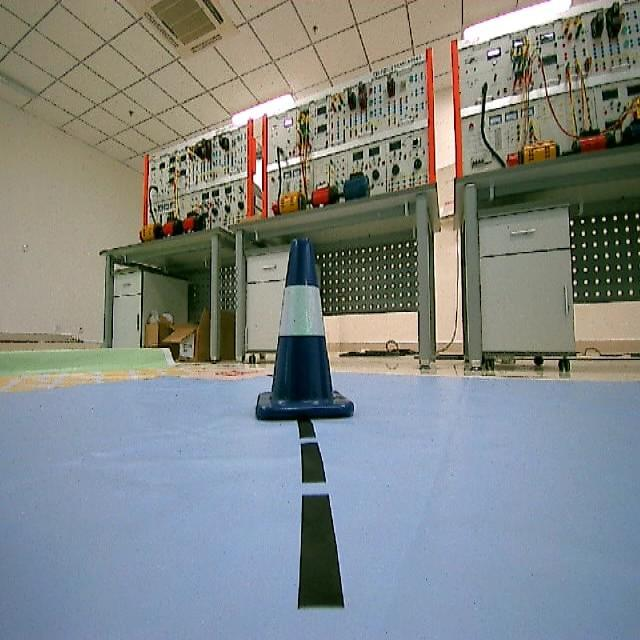obstacle: (252, 234, 358, 427)
